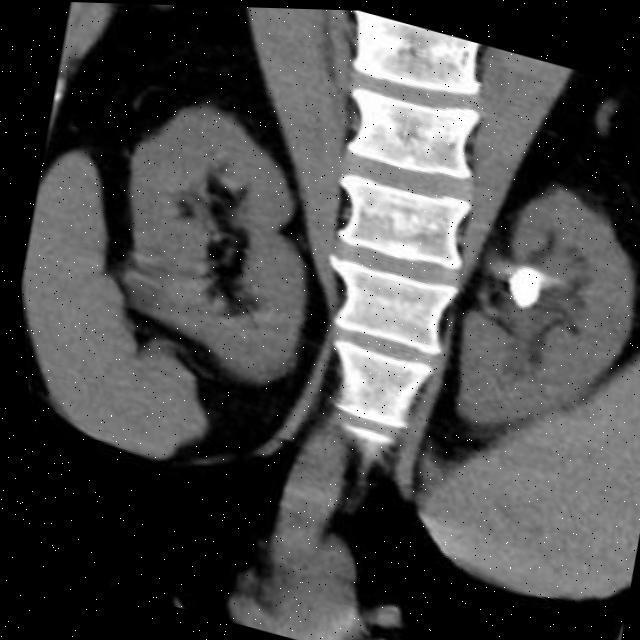Tas_Var: (486, 249, 552, 318)
